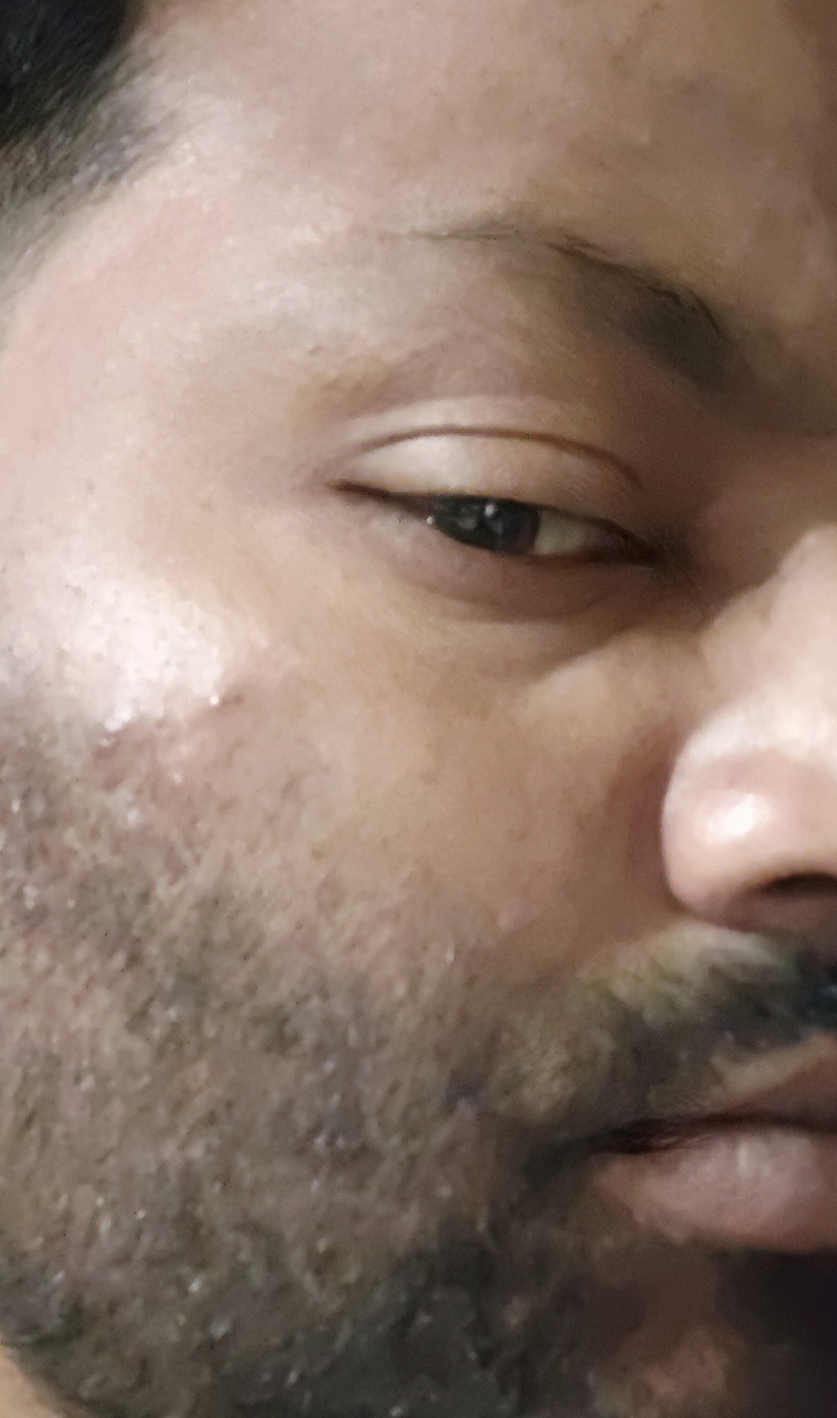pustule: (78, 712, 186, 799), (181, 661, 247, 740)
